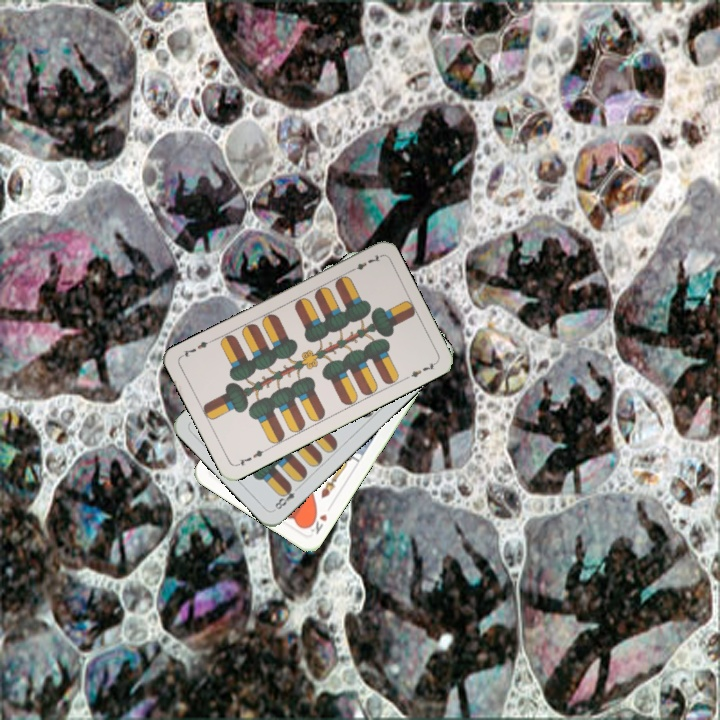E7: (233, 444, 270, 469), (345, 251, 383, 275)
E8: (270, 481, 303, 513)
HK: (304, 509, 330, 537)
